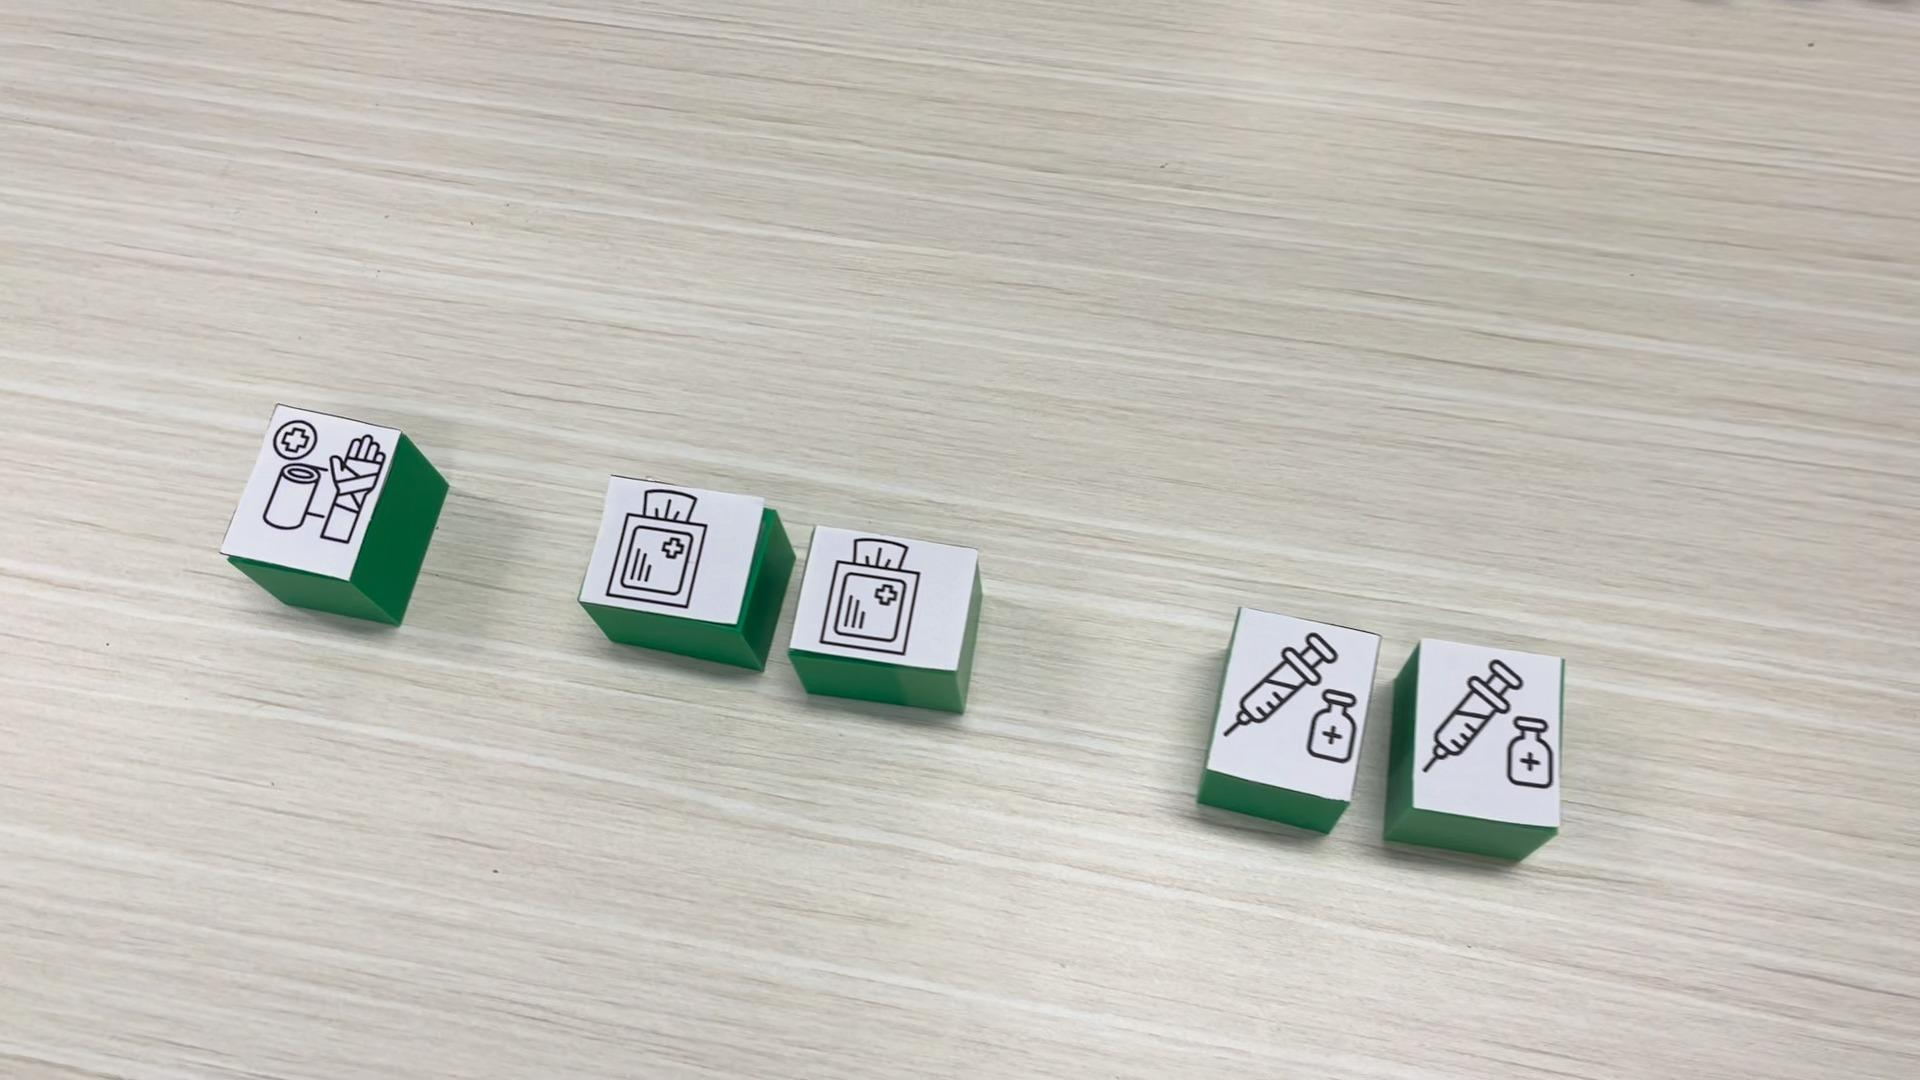Bandages: (220, 402, 448, 626)
Gauze: (575, 468, 794, 674), (786, 520, 982, 715)
antiseptic cream: (1195, 605, 1404, 835), (1386, 626, 1567, 862)
